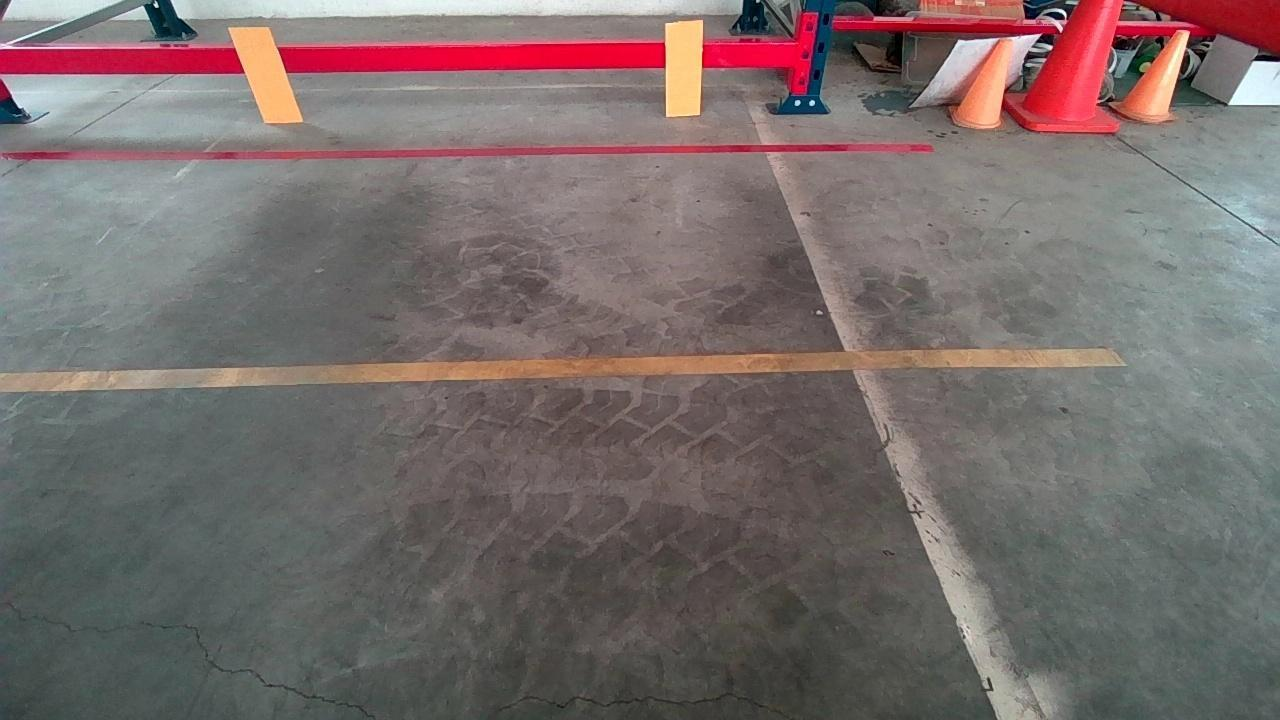h_rack: (0, 43, 793, 72)
orange_strip: (229, 26, 303, 121), (665, 21, 703, 113)
red_line: (4, 142, 932, 162)
yellow_line: (0, 345, 1126, 392)
